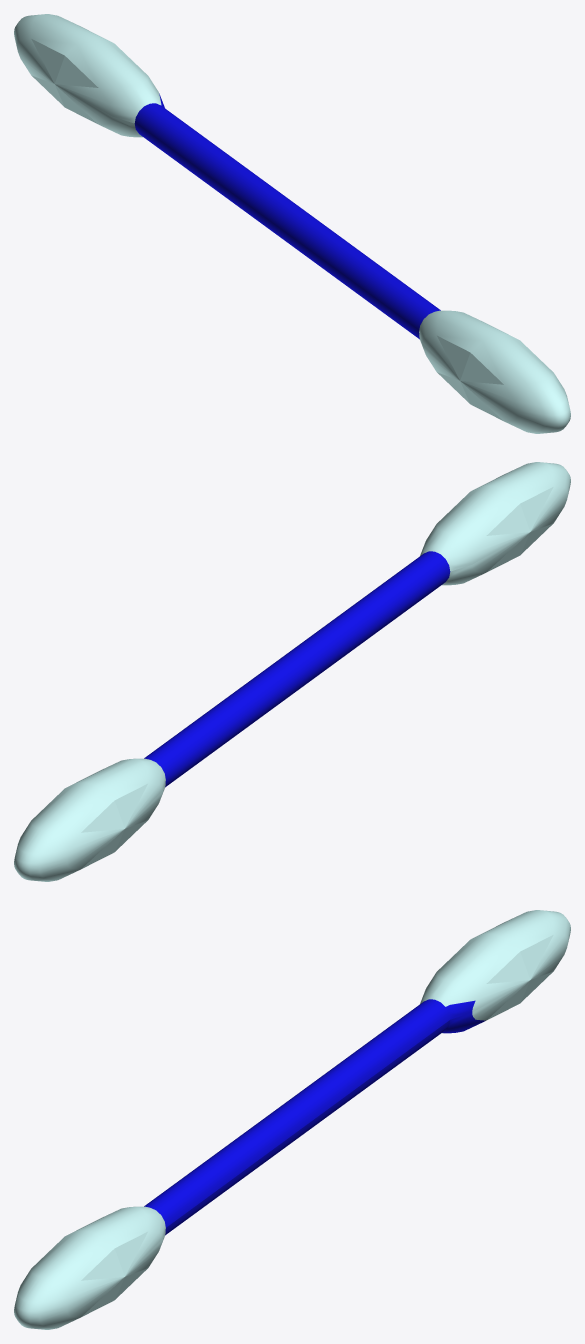
File: Pick up 1.FBX
3 views of the same model, one above another, from view 1: azimuth 30°, elevation 25°; view 2: azimuth 150°, elevation 25°; view 3: azimuth 330°, elevation 25° (orthographic).
Visible parts, largest first — view 1: object_1; view 2: object_1; view 3: object_1.
Part boxes in pixels (x1,y1,x2,y2): object_1: (14,14,570,433); object_1: (14,462,570,881); object_1: (14,910,570,1329).
Bounding box in the file's own units: 4.5 × 4.5 × 60.
